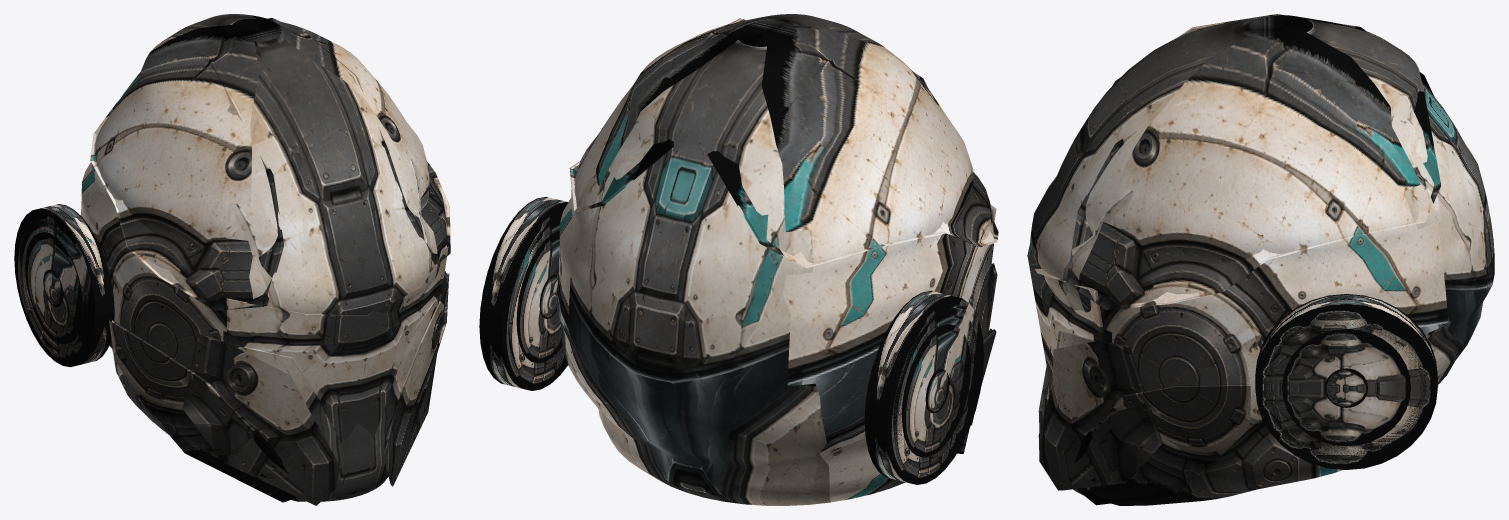
The model's file is kestrel-field-helmet-v2.glb.
The picture shows the model from 3 angles, left to right: view 1: azimuth 30°, elevation 25°; view 2: azimuth 150°, elevation 25°; view 3: azimuth 270°, elevation 25°; orthographic projection. The views are drawn at different scales.
Parts seen in each view (by area): view 1: Measured closed helmet shell, Continuous sculpted optical visor, Left curved ceramic cheek and chin armor, Left dark ear seat, Left swept lower flank, Left dark ear diaphragm, Right curved ceramic cheek and chin armor, Left curved upper ceramic shell, Left ivory ear rim, Right curved upper ceramic shell, Left ear hub, Right swept lower flank; view 2: Measured closed helmet shell, Left dark ear seat, Right dark ear seat, Left dark ear diaphragm, Right dark ear diaphragm, Left curved upper ceramic shell, Left ivory ear rim, Right curved upper ceramic shell, Left ear hub, Right ivory ear rim, Right ear hub; view 3: Measured closed helmet shell, Right dark ear seat, Right curved ceramic cheek and chin armor, Right dark ear diaphragm, Right swept lower flank, Right curved upper ceramic shell, Right ivory ear rim, Continuous sculpted optical visor, Right ear hub.
Part boxes in pixels (x1=…): Measured closed helmet shell: x1=81, y1=14, x2=446, y2=501; Continuous sculpted optical visor: x1=226, y1=245, x2=448, y2=443; Left curved ceramic cheek and chin armor: x1=182, y1=333, x2=340, y2=505; Left dark ear seat: x1=14, y1=204, x2=114, y2=367; Left swept lower flank: x1=109, y1=320, x2=296, y2=502; Left dark ear diaphragm: x1=25, y1=232, x2=83, y2=343; Right curved ceramic cheek and chin armor: x1=384, y1=273, x2=449, y2=486; Left curved upper ceramic shell: x1=90, y1=42, x2=284, y2=310; Left ivory ear rim: x1=19, y1=218, x2=90, y2=350; Right curved upper ceramic shell: x1=268, y1=18, x2=450, y2=264; Left ear hub: x1=43, y1=269, x2=63, y2=306; Right swept lower flank: x1=408, y1=271, x2=448, y2=439; Measured closed helmet shell: x1=556, y1=14, x2=993, y2=505; Left dark ear seat: x1=864, y1=290, x2=983, y2=484; Right dark ear seat: x1=479, y1=197, x2=567, y2=390; Left dark ear diaphragm: x1=901, y1=324, x2=970, y2=457; Right dark ear diaphragm: x1=516, y1=231, x2=562, y2=363; Left curved upper ceramic shell: x1=707, y1=53, x2=998, y2=267; Left ivory ear rim: x1=893, y1=307, x2=977, y2=473; Right curved upper ceramic shell: x1=569, y1=18, x2=745, y2=211; Left ear hub: x1=925, y1=369, x2=949, y2=413; Right ivory ear rim: x1=508, y1=214, x2=564, y2=374; Right ear hub: x1=539, y1=274, x2=557, y2=318; Measured closed helmet shell: x1=1030, y1=15, x2=1494, y2=505; Right dark ear seat: x1=1255, y1=294, x2=1437, y2=469; Right curved ceramic cheek and chin armor: x1=1038, y1=341, x2=1162, y2=490; Right dark ear diaphragm: x1=1282, y1=329, x2=1410, y2=446; Right swept lower flank: x1=1074, y1=384, x2=1250, y2=505; Right curved upper ceramic shell: x1=1066, y1=66, x2=1440, y2=309; Right ivory ear rim: x1=1266, y1=314, x2=1426, y2=460; Continuous sculpted optical visor: x1=1027, y1=242, x2=1104, y2=395; Right ear hub: x1=1325, y1=368, x2=1367, y2=407.
Size of the model in its own units: 0.252 by 0.285 by 0.261.
4 materials, 4 textured.
